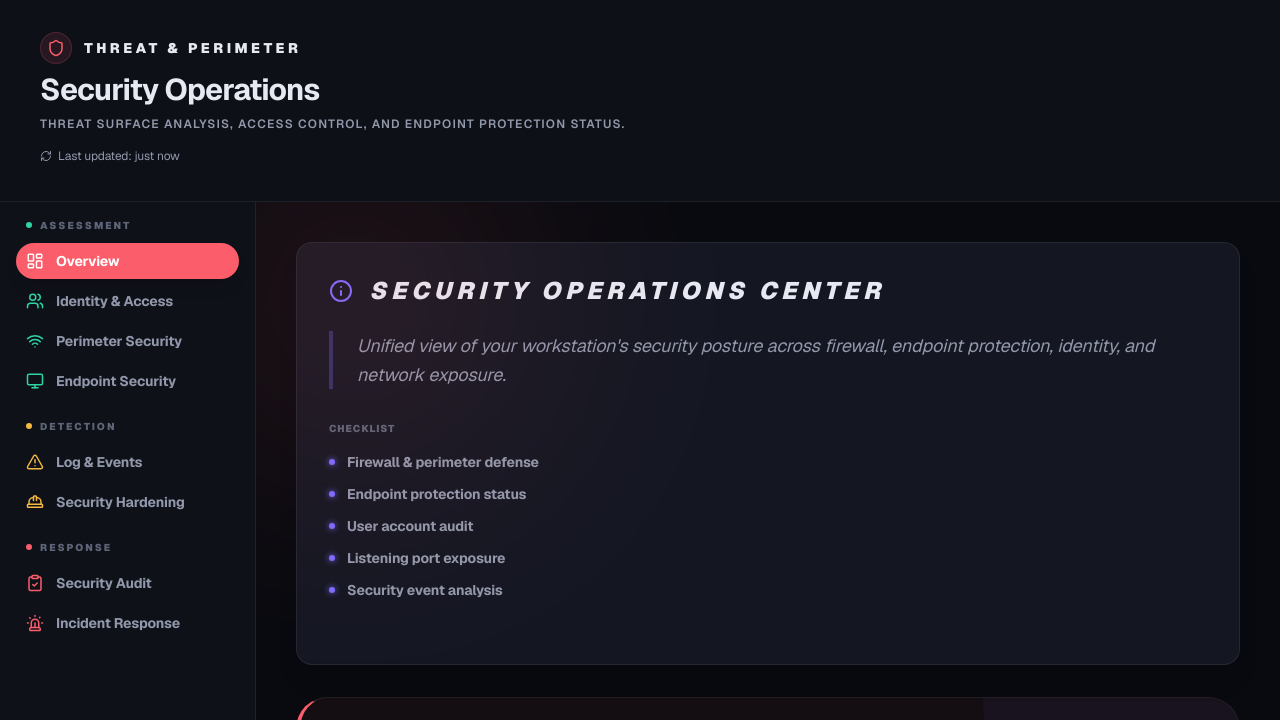
SecOps Page › navigates to Security Hardening sidebar category
The width and height of the screenshot is (1280, 720).
Click the button "Security Hardening" at point(128, 502), box [16,484,239,520]
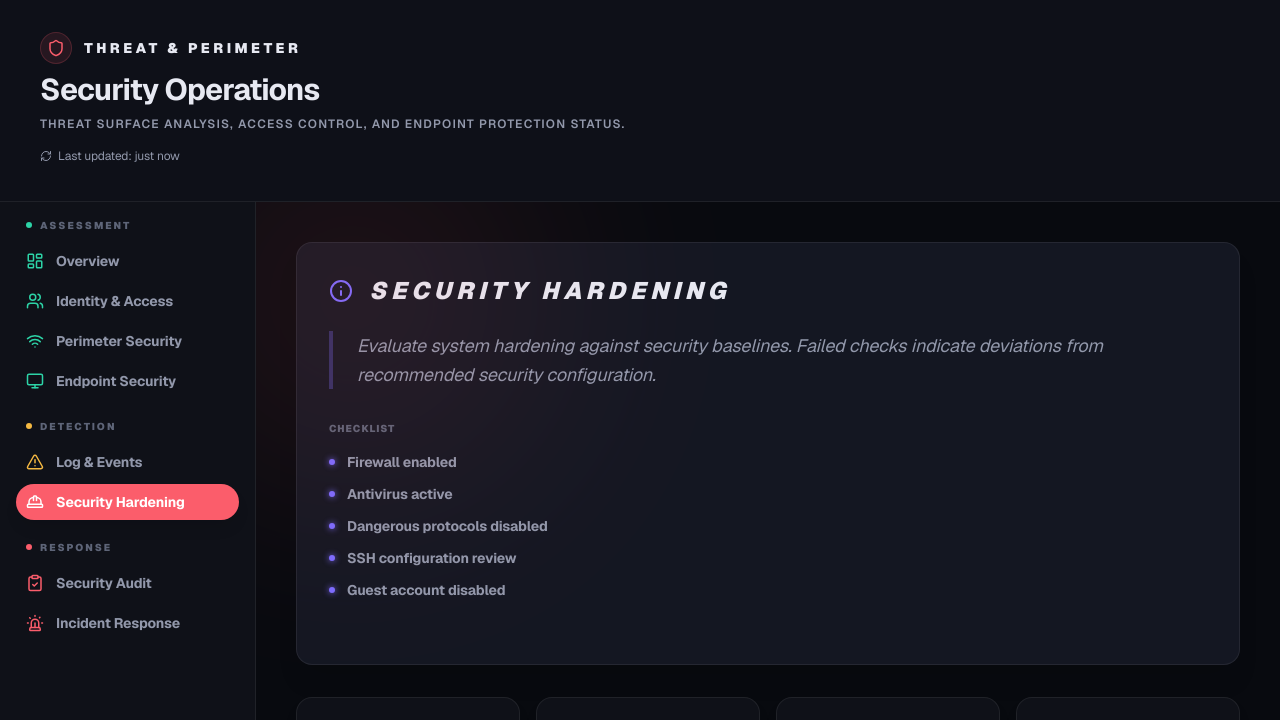
Now the heading "Security Hardening" is shown, box [369,274,730,306]
